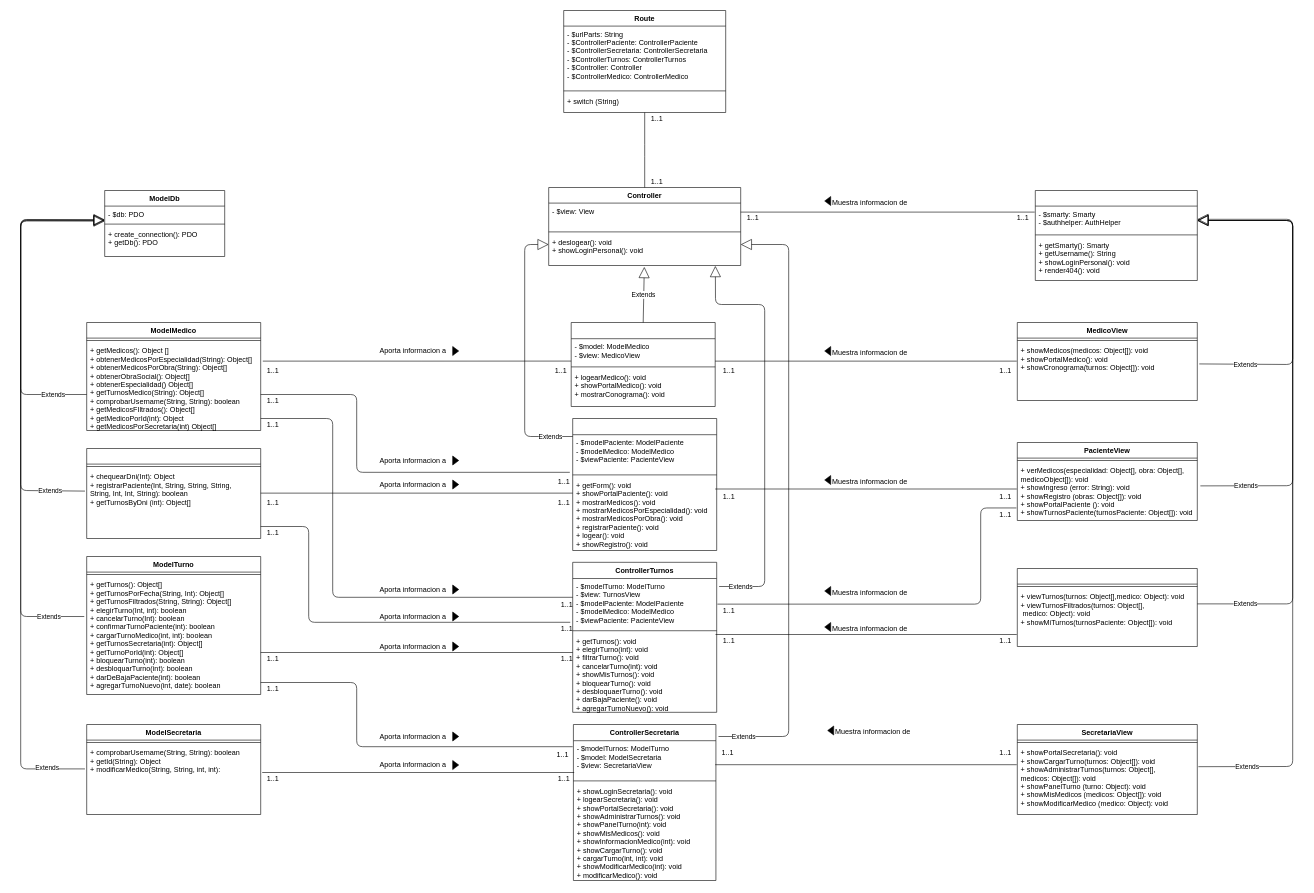
Some shapes in this 1314 by 893 pixel diagram are drawn without their labels. Each missing label, with the box of its shape:
ControllerMedico: (571, 322, 715, 406)
ControllerPaciente: (572, 418, 717, 550)
ModelPaciente: (86, 448, 261, 538)
TurnosView: (1017, 568, 1197, 646)
View: (1035, 190, 1197, 280)
